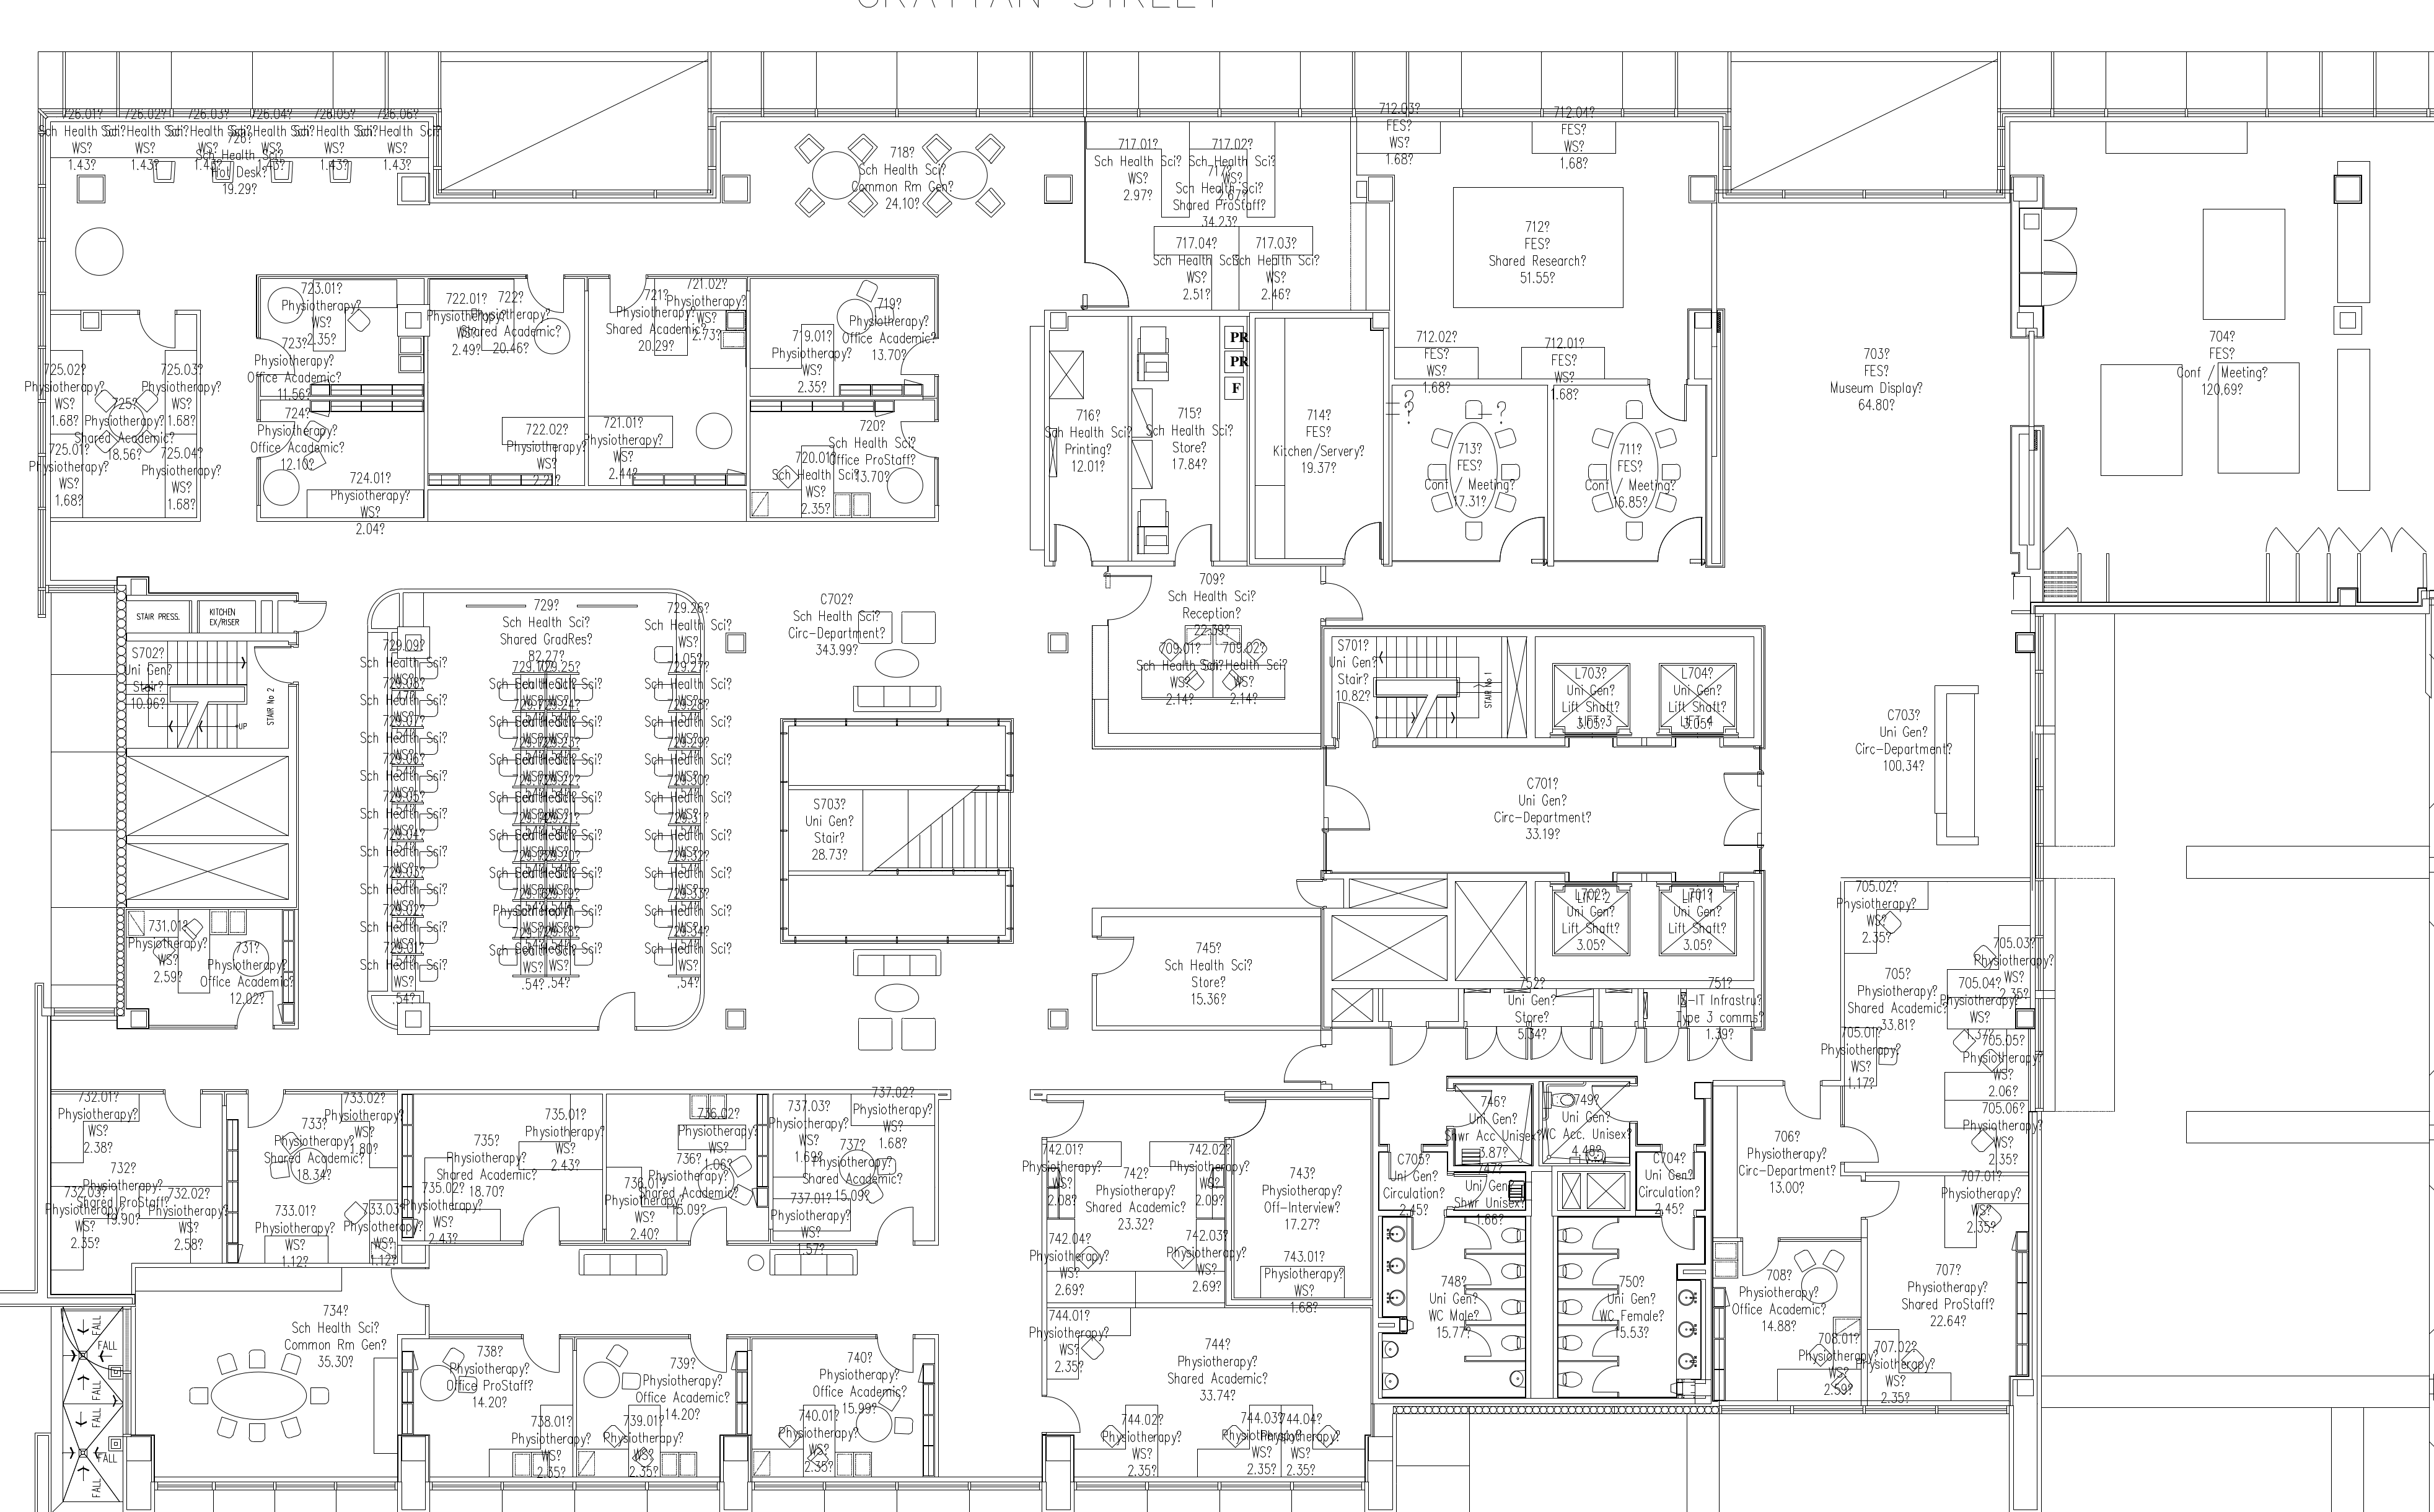text: (1832, 867, 2041, 1171), (1013, 1129, 1255, 1303), (482, 669, 613, 989), (635, 597, 740, 989), (352, 625, 458, 989), (52, 1078, 230, 1270), (770, 1078, 945, 1261), (40, 340, 221, 516), (42, 99, 446, 178), (247, 1085, 418, 1265), (1146, 199, 1325, 305), (1130, 620, 1295, 709), (1811, 314, 1936, 427), (2157, 317, 2288, 415), (1069, 1390, 1189, 1482), (1220, 1401, 1358, 1479), (1156, 1322, 1271, 1409), (1163, 911, 1255, 1019), (1429, 415, 1520, 524), (1410, 1259, 1497, 1373), (1534, 1071, 1630, 1169), (1179, 131, 1274, 226), (1656, 970, 1772, 1049), (1482, 768, 1598, 845), (1847, 700, 1952, 784), (850, 138, 959, 216), (1483, 209, 1593, 287), (785, 582, 888, 665), (200, 928, 298, 1016), (1086, 1157, 1184, 1244), (771, 1401, 879, 1477), (1440, 1087, 1541, 1169), (1267, 406, 1370, 486), (1156, 563, 1262, 639), (750, 319, 858, 394), (837, 296, 951, 368), (1891, 1258, 1999, 1331), (1590, 1263, 1675, 1353), (1022, 1305, 1125, 1380), (1739, 1124, 1839, 1200), (77, 387, 167, 470), (77, 1150, 172, 1228), (437, 1124, 535, 1200), (435, 1341, 540, 1413), (822, 409, 919, 484), (662, 268, 750, 350), (1593, 427, 1673, 516), (503, 596, 594, 674), (500, 411, 592, 488), (287, 1301, 393, 1367), (797, 1350, 909, 1413), (421, 273, 501, 361), (1522, 322, 1602, 409), (259, 1118, 367, 1183), (1725, 1265, 1825, 1334), (1097, 127, 1177, 213), (1257, 1158, 1349, 1232), (251, 404, 350, 472), (1790, 1319, 1873, 1399), (672, 1096, 757, 1174), (124, 908, 204, 989), (1041, 406, 1135, 476), (806, 1132, 900, 1202), (1934, 1164, 2021, 1239), (1144, 401, 1233, 474), (1262, 1244, 1353, 1315), (479, 286, 564, 361), (1856, 960, 1941, 1035), (1358, 82, 1429, 171), (602, 289, 700, 354), (385, 1176, 477, 1244), (573, 413, 665, 481), (521, 1099, 604, 1174), (1856, 1333, 1940, 1407), (768, 449, 864, 514), (329, 463, 411, 538), (635, 1350, 728, 1416), (245, 333, 338, 399), (1440, 1160, 1532, 1226), (1637, 1131, 1701, 1225), (1321, 627, 1393, 709), (644, 1150, 730, 1218), (597, 1414, 686, 1479), (515, 1404, 587, 1484), (1396, 317, 1466, 399), (1661, 885, 1738, 958), (1487, 975, 1569, 1043), (796, 787, 862, 871), (279, 280, 364, 345), (1372, 1148, 1450, 1218), (197, 129, 273, 199), (1555, 887, 1630, 953), (606, 1174, 674, 1242), (1557, 665, 1624, 733), (1659, 669, 1734, 730), (1541, 105, 1604, 172), (118, 641, 178, 712)
